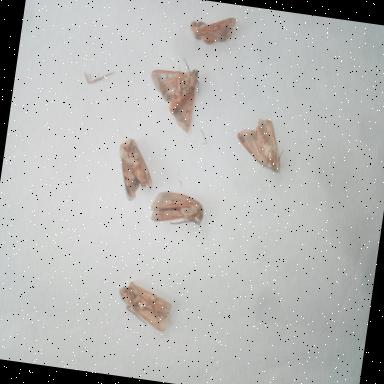abw: (141, 48, 207, 136), (110, 274, 177, 336), (228, 111, 290, 178), (108, 133, 161, 207), (144, 184, 208, 231), (185, 7, 240, 52)
